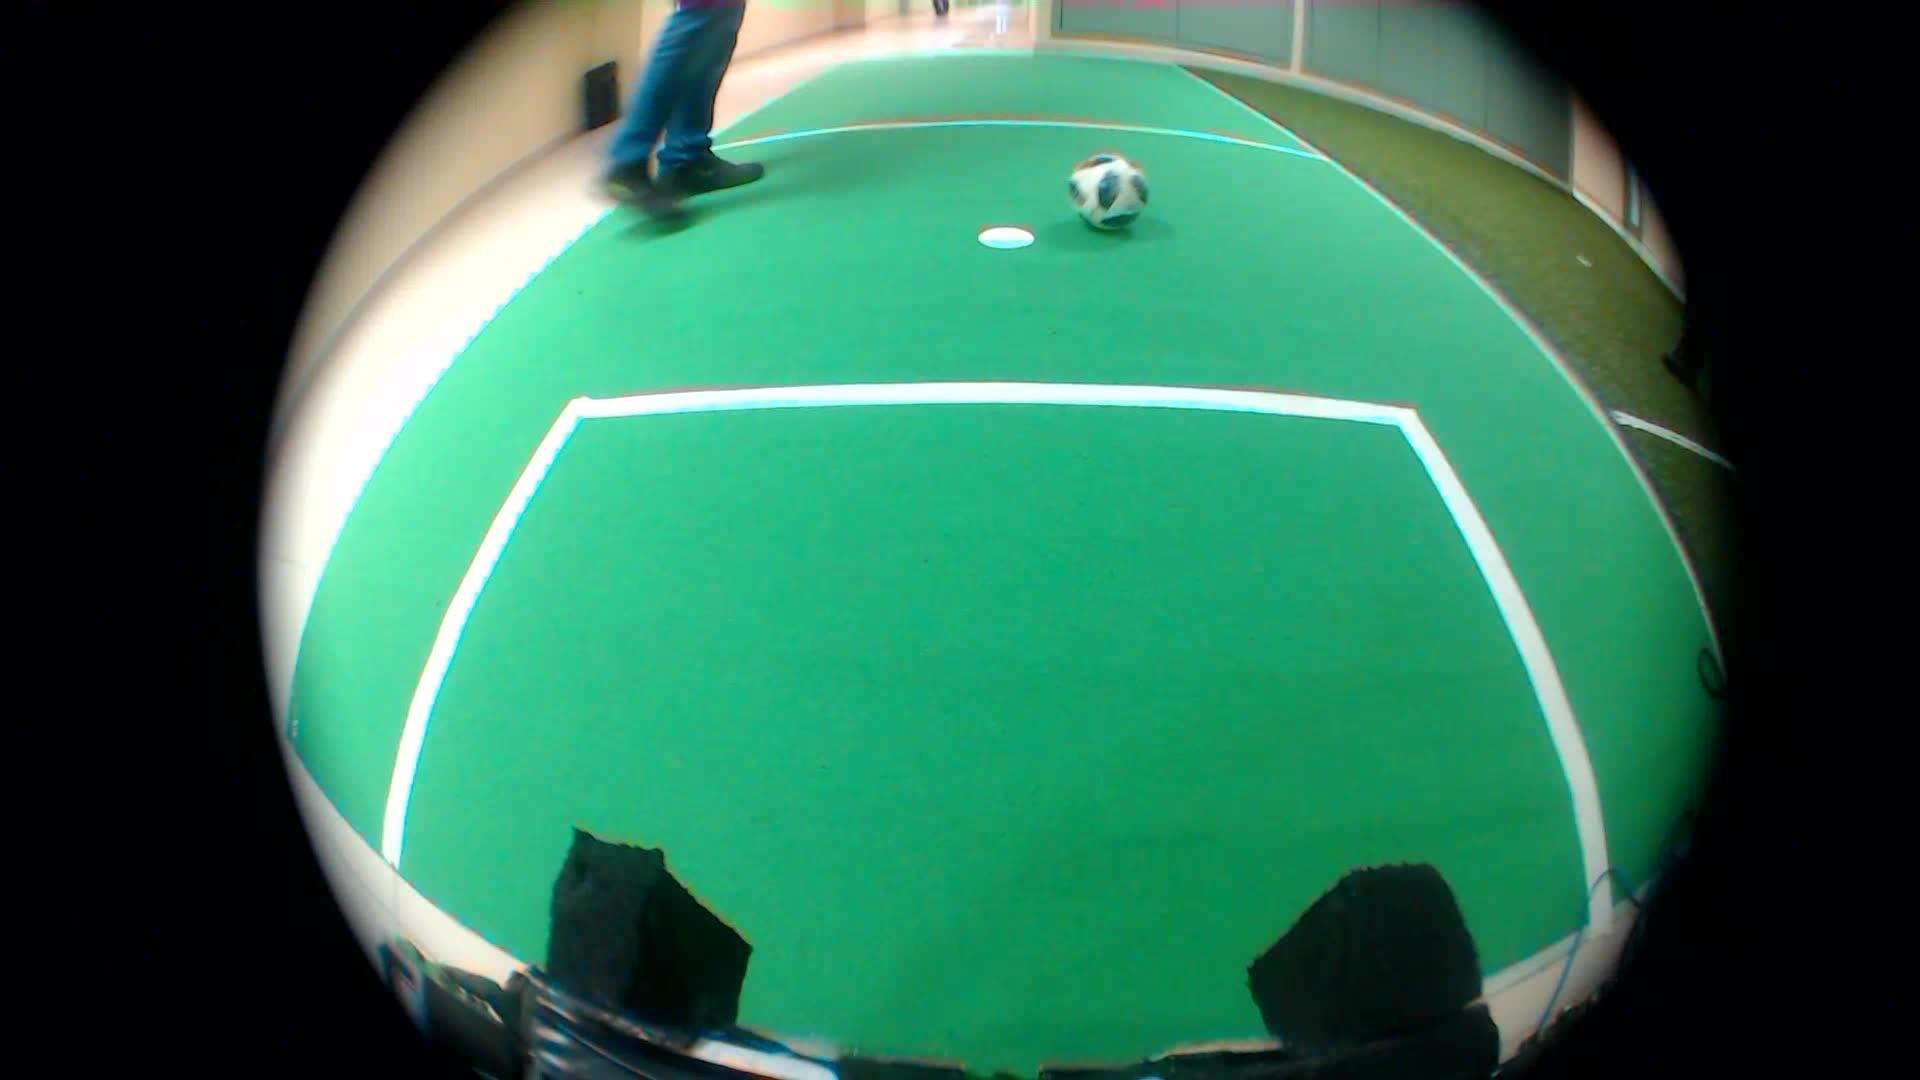ball: (1063, 142, 1156, 243)
